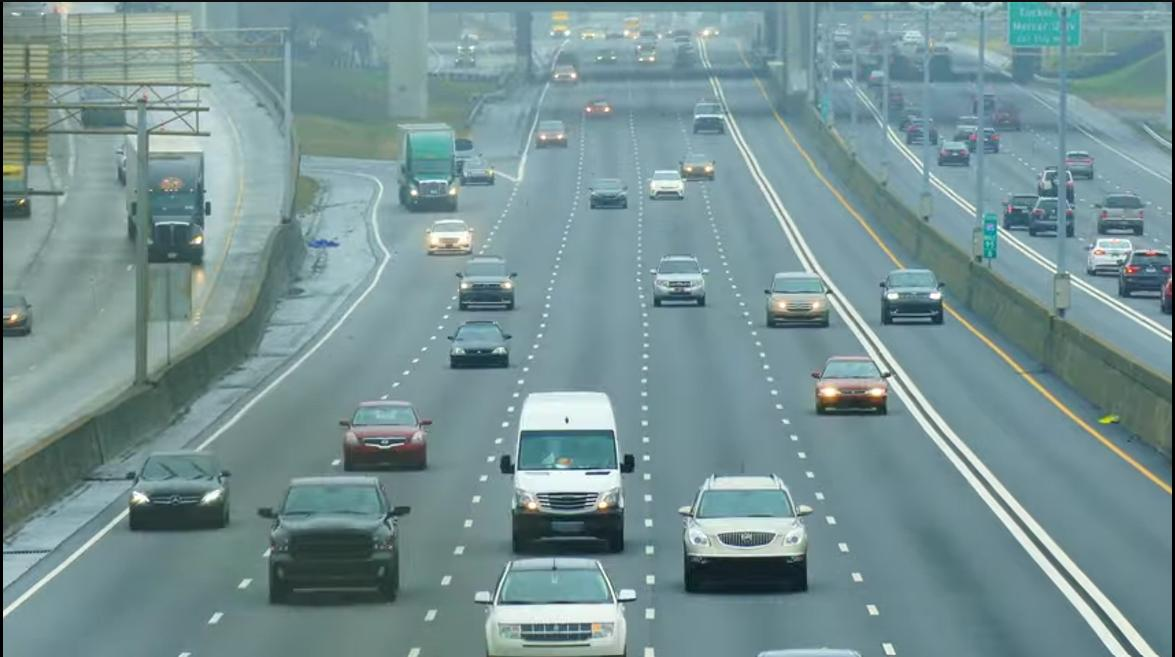car: (273, 469, 431, 630), (686, 470, 826, 616), (113, 423, 249, 546), (644, 236, 736, 349), (431, 320, 524, 382), (1097, 179, 1162, 238), (687, 92, 739, 154), (937, 122, 981, 186)
truck: (116, 127, 232, 279), (377, 117, 485, 245)
van: (514, 375, 636, 554)
